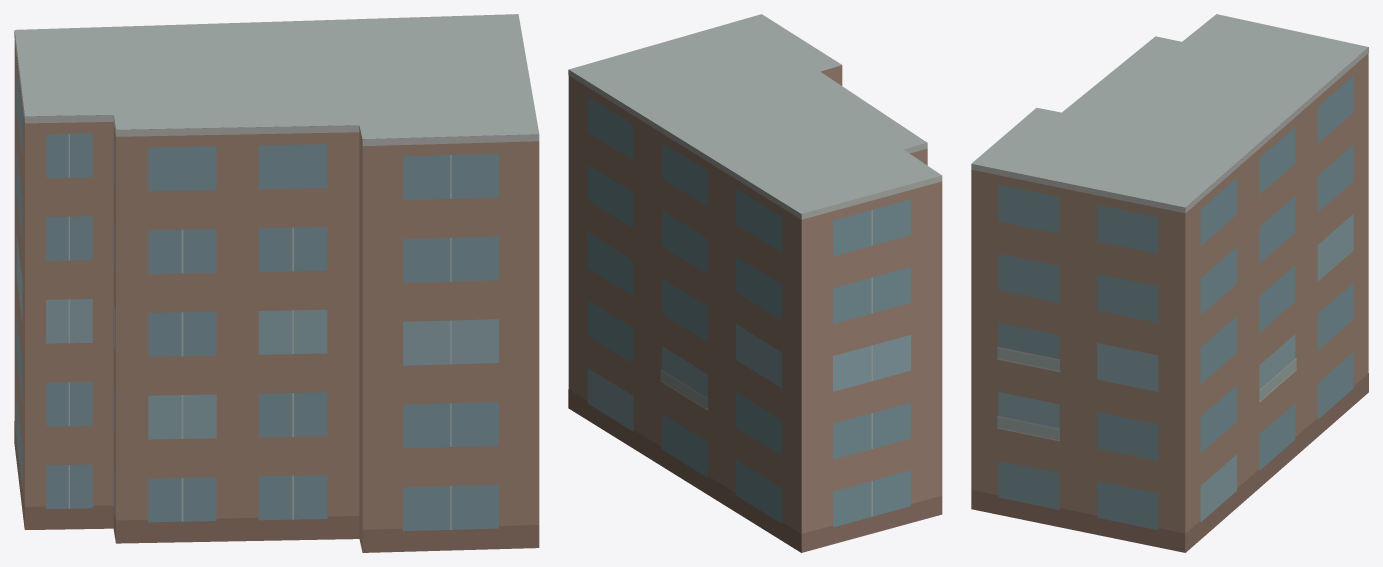
File: survey-upis-32894261.glb
3 renders of one model, left to right at view 1: azimuth 30°, elevation 25°; view 2: azimuth 150°, elevation 25°; view 3: azimuth 270°, elevation 25°, orthographic. The views are drawn at different scales.
Parts seen in each view (by area): view 1: survey-upis-32894261.tmp; view 2: survey-upis-32894261.tmp; view 3: survey-upis-32894261.tmp.
Boxes of the visible parts, x1,y1,x2,y2 form: survey-upis-32894261.tmp: (14, 14, 539, 552); survey-upis-32894261.tmp: (568, 14, 942, 552); survey-upis-32894261.tmp: (971, 14, 1368, 552).
Size of the model in its own units: 17.19 by 14.3 by 14.93.
